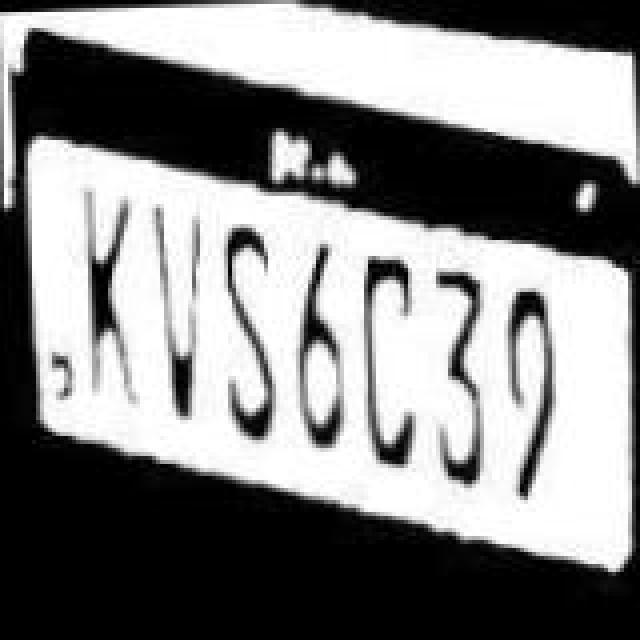3: (420, 260, 488, 496)
6: (280, 238, 352, 454)
9: (490, 278, 562, 514)
C: (348, 246, 424, 474)
K: (72, 180, 144, 412)
S: (214, 214, 290, 442)
V: (142, 196, 210, 420)
